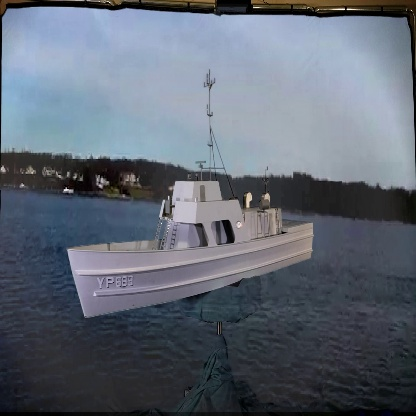YP689: (65, 69, 316, 321)
